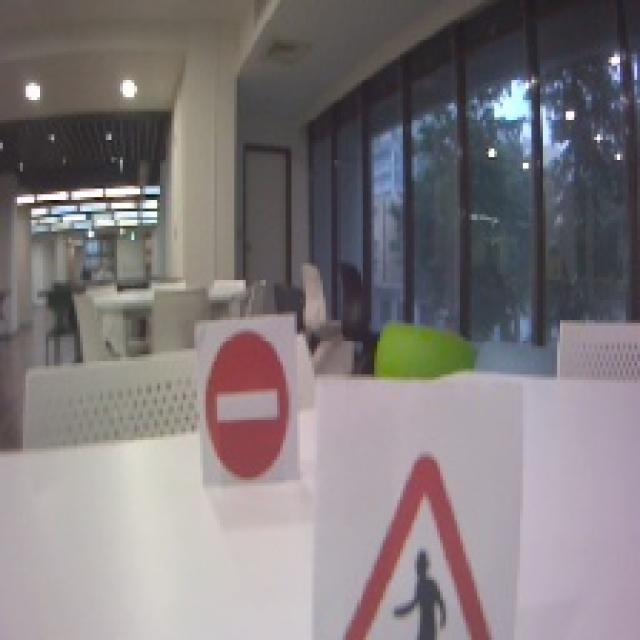DoNotEnterSign: (203, 330, 290, 482)
